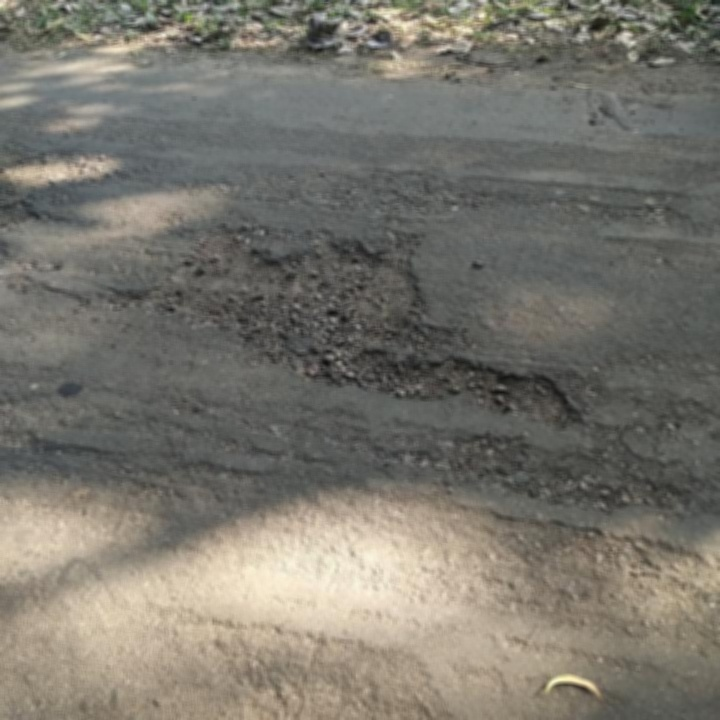pothole: (95, 221, 582, 433), (0, 193, 44, 234)
